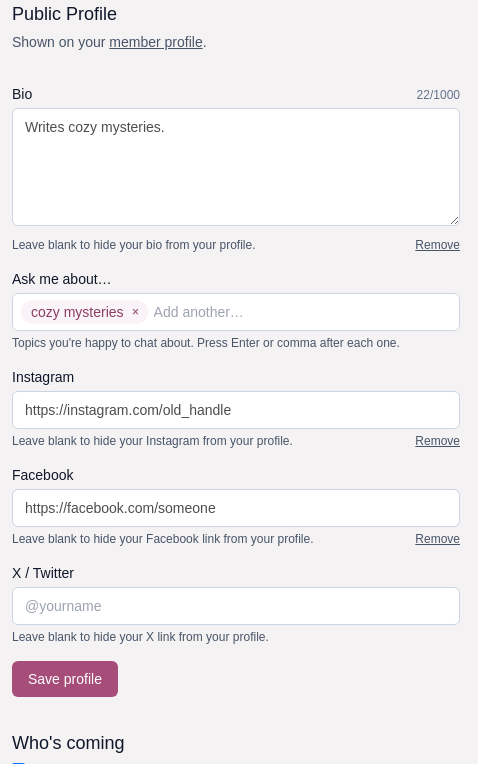
ProfilePanel › surfaces the Kajabi warning when Instagram saved but the profile refresh lagged
Replace the text in the field labelled "Instagram" with "@new_handle" at {"x": 236, "y": 410}, box [12,391,460,429]
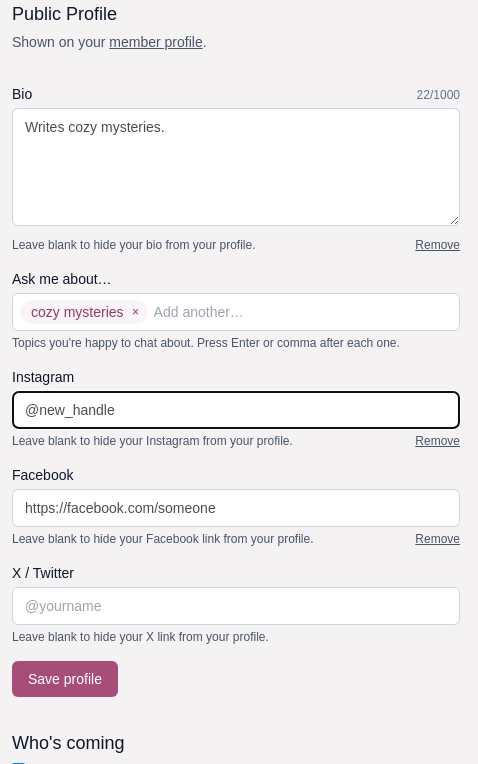
Click the button "Save profile" at {"x": 65, "y": 679}, box [12,661,118,697]
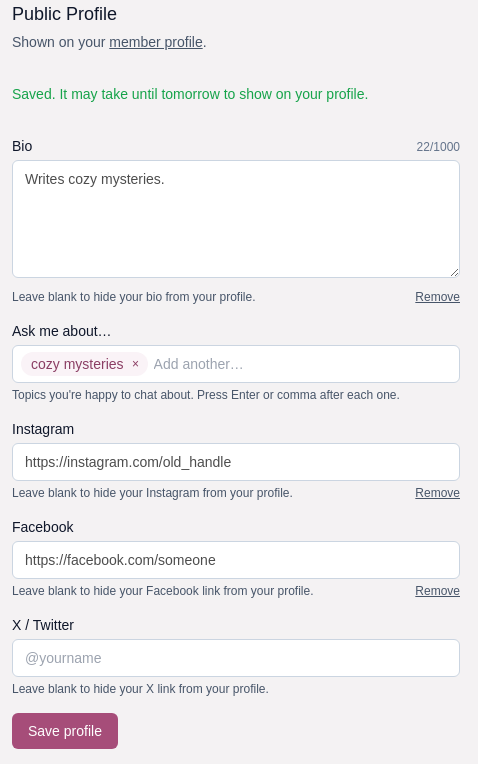
Result: the message shows "until tomorrow" at [12,86,368,102]
